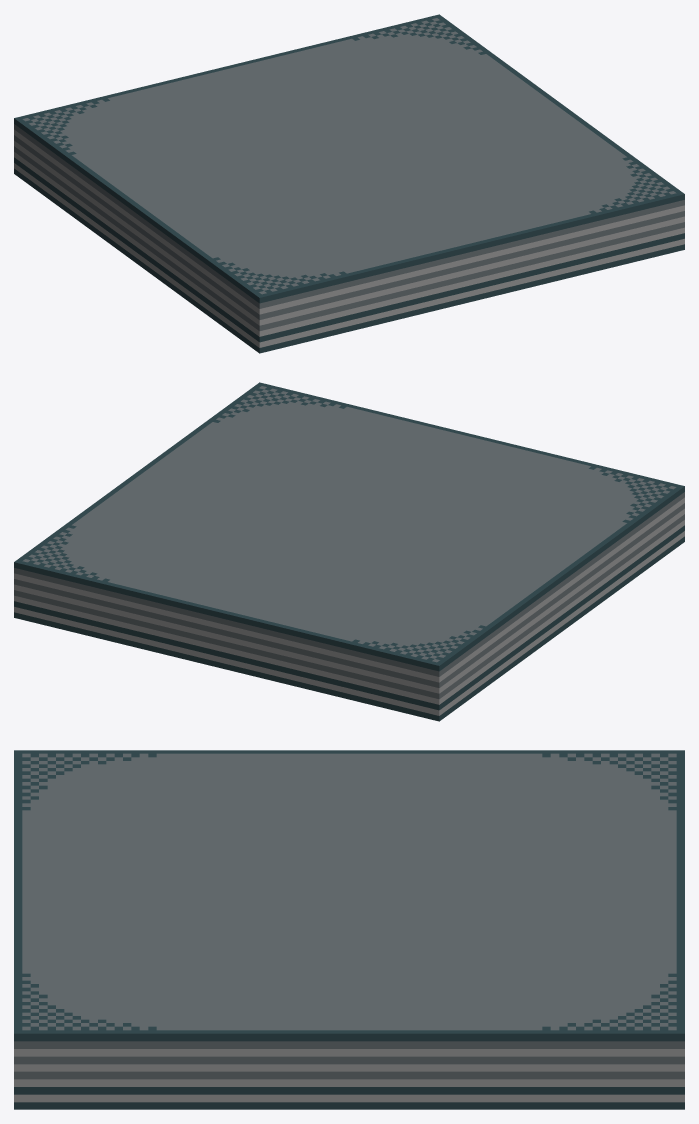
Rendered from bridge2_plate.obj.
3 renders of one model, top to bottom at view 1: azimuth 30°, elevation 25°; view 2: azimuth 150°, elevation 25°; view 3: azimuth 270°, elevation 25°, orthographic. The views are drawn at different scales.
Size of the model in its own units: 8 by 1 by 8.
Materials: 1 (1 with a texture image).
